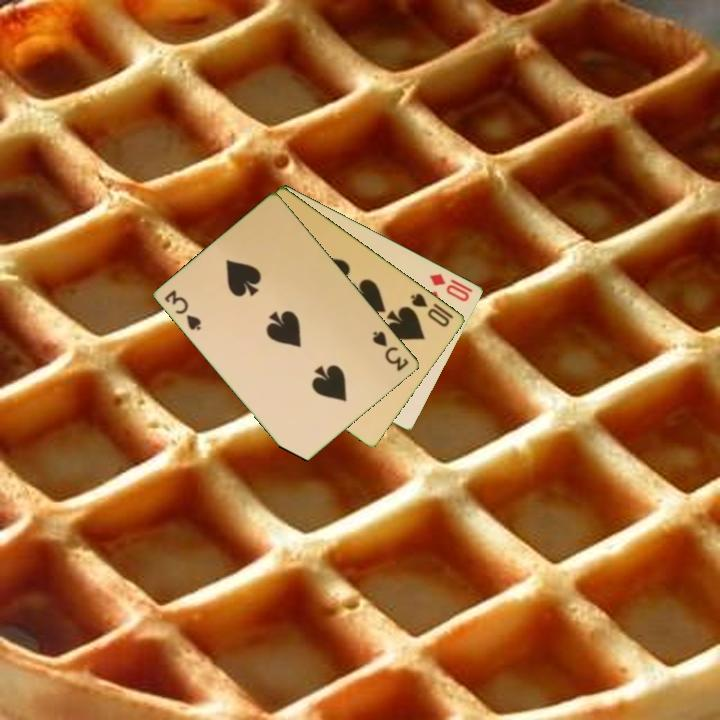10d: (426, 270, 476, 304)
10s: (407, 290, 453, 330)
3s: (161, 286, 204, 334), (369, 327, 412, 374)
